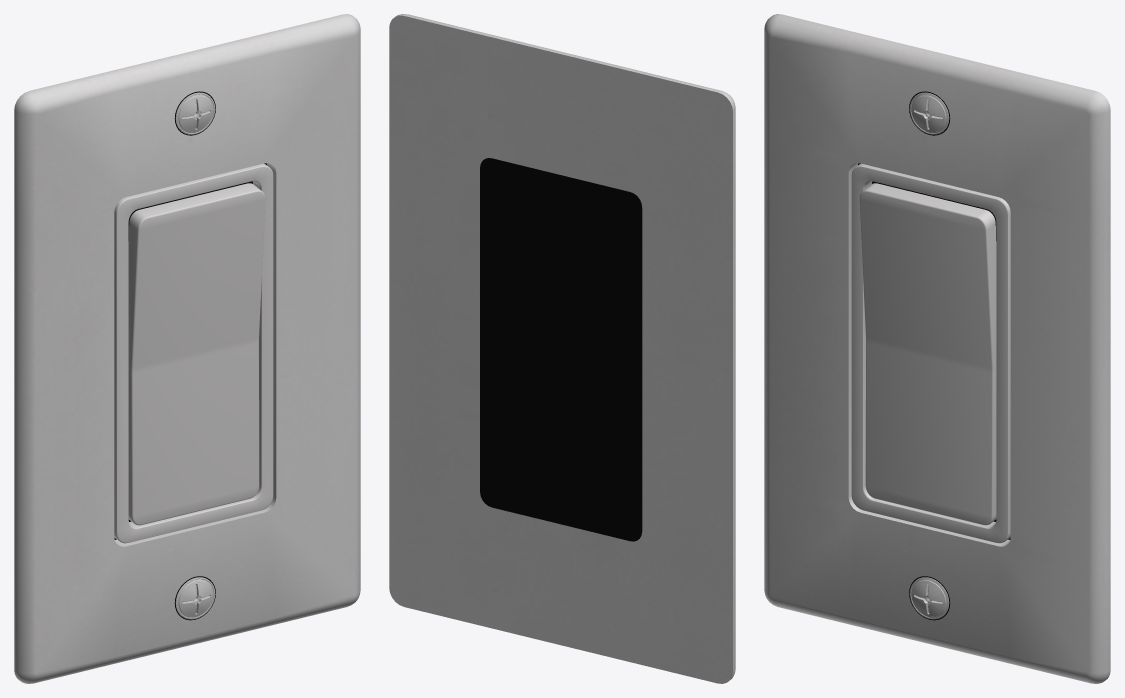
Rendered from switch.obj.
The picture shows the model from 3 angles, left to right: view 1: azimuth 30°, elevation 25°; view 2: azimuth 150°, elevation 25°; view 3: azimuth 330°, elevation 25°; orthographic projection.
Parts seen in each view (by area): view 1: switch(1)_Cube; view 2: switch(1)_Cube; view 3: switch(1)_Cube.
Boxes of the visible parts, <box> form: switch(1)_Cube: <box>14,14,360,683</box>; switch(1)_Cube: <box>389,14,735,683</box>; switch(1)_Cube: <box>764,14,1110,683</box>.
Size of the model in its own units: 0.07 by 0.115 by 0.00578.
